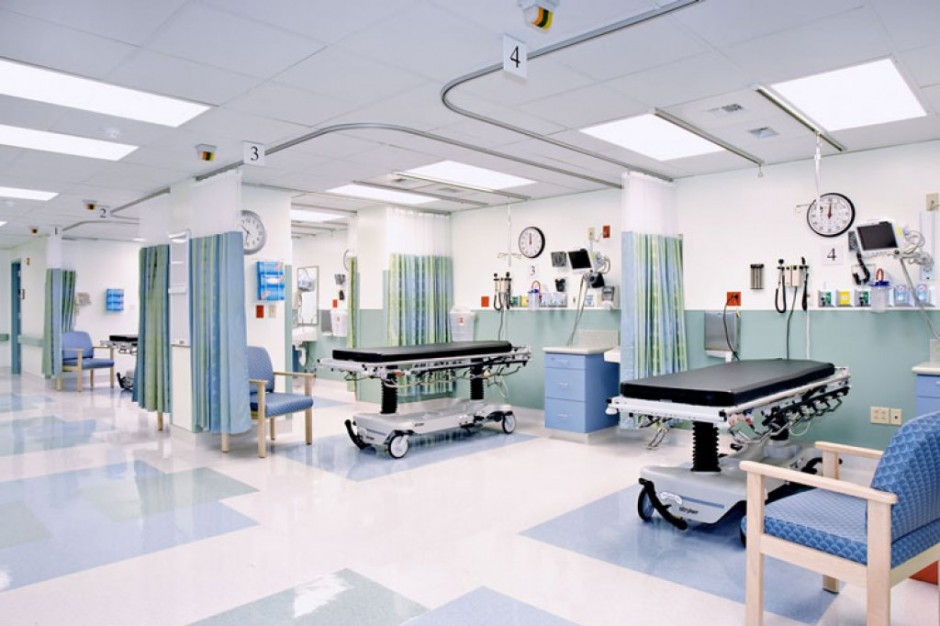bedside_monitor: (852, 219, 905, 258), (564, 245, 597, 276)
bedside_table: (540, 341, 614, 439), (910, 339, 940, 418)
chair: (740, 413, 940, 624), (220, 343, 314, 458), (60, 325, 113, 390)
curtain: (181, 170, 251, 440), (613, 171, 692, 379), (379, 209, 455, 398), (120, 193, 176, 424), (40, 222, 64, 386)
dispenser: (701, 307, 741, 364)
handle: (555, 414, 570, 419), (556, 383, 571, 388), (556, 359, 571, 364)
hospital_bed: (606, 357, 850, 547), (322, 340, 531, 459), (101, 321, 143, 390)
medical_waste_container: (451, 313, 474, 340), (332, 311, 350, 337)
